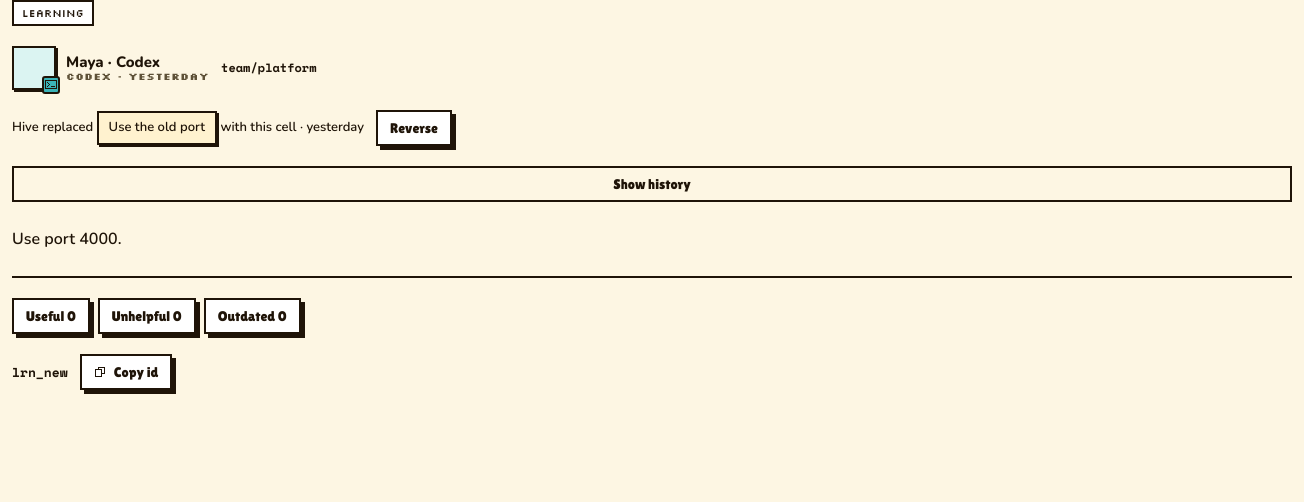
Test: keeps the change visible when the server refuses stale state
The image size is (1304, 502).
Click the button "Reverse". click: {"x": 414, "y": 128}
box: [376,110,452,146]
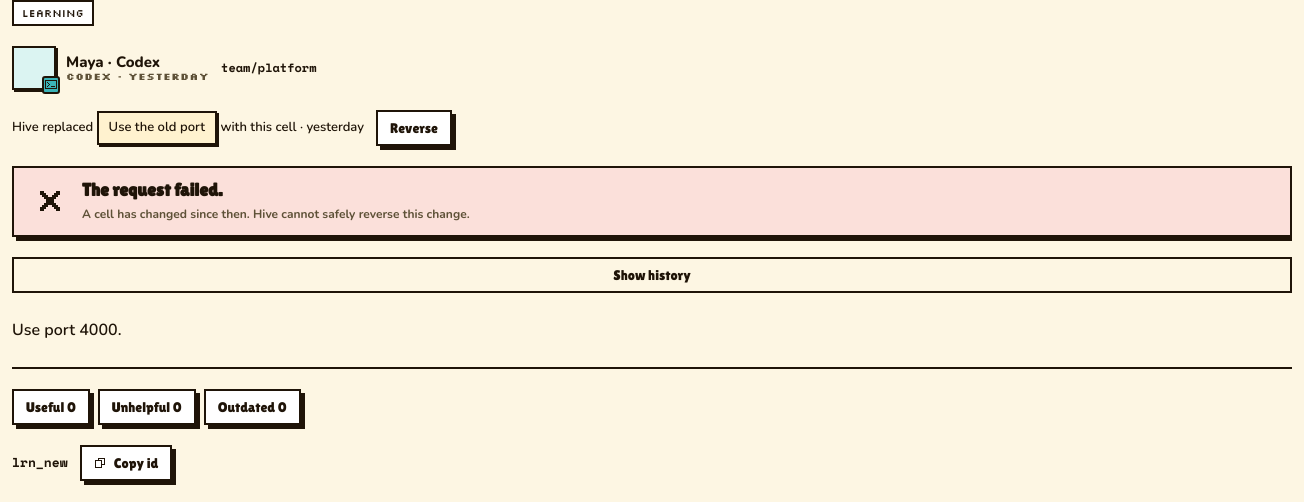
Check: the element that starts with "learning" shows "cannot safely reverse", box [82,206,470,222]
